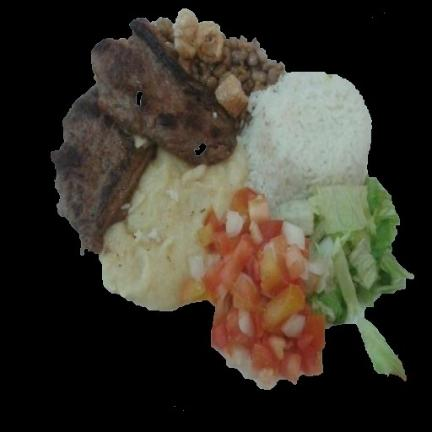meat: (52, 11, 284, 253)
potato: (100, 145, 248, 311)
rice: (241, 72, 372, 209)
salad: (282, 179, 413, 377)
tomato: (187, 188, 324, 388)
